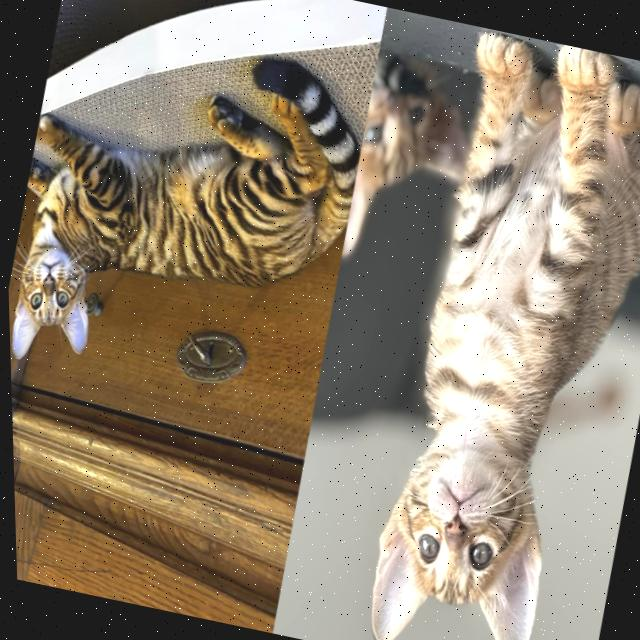Toyger: (342, 25, 640, 640), (0, 8, 381, 425)
